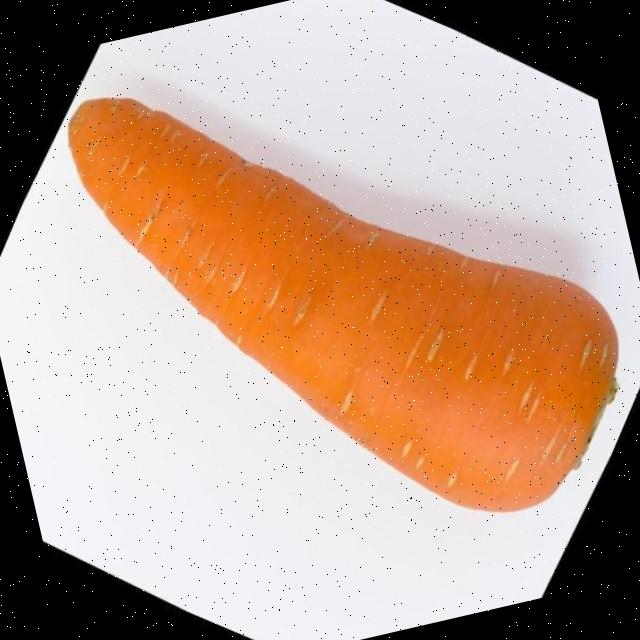carrot: (68, 97, 617, 511)
